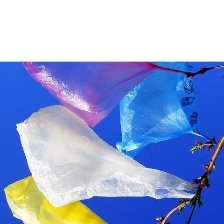plastic_bag: (13, 99, 203, 212), (18, 45, 202, 132), (113, 59, 219, 163), (2, 174, 110, 224)
